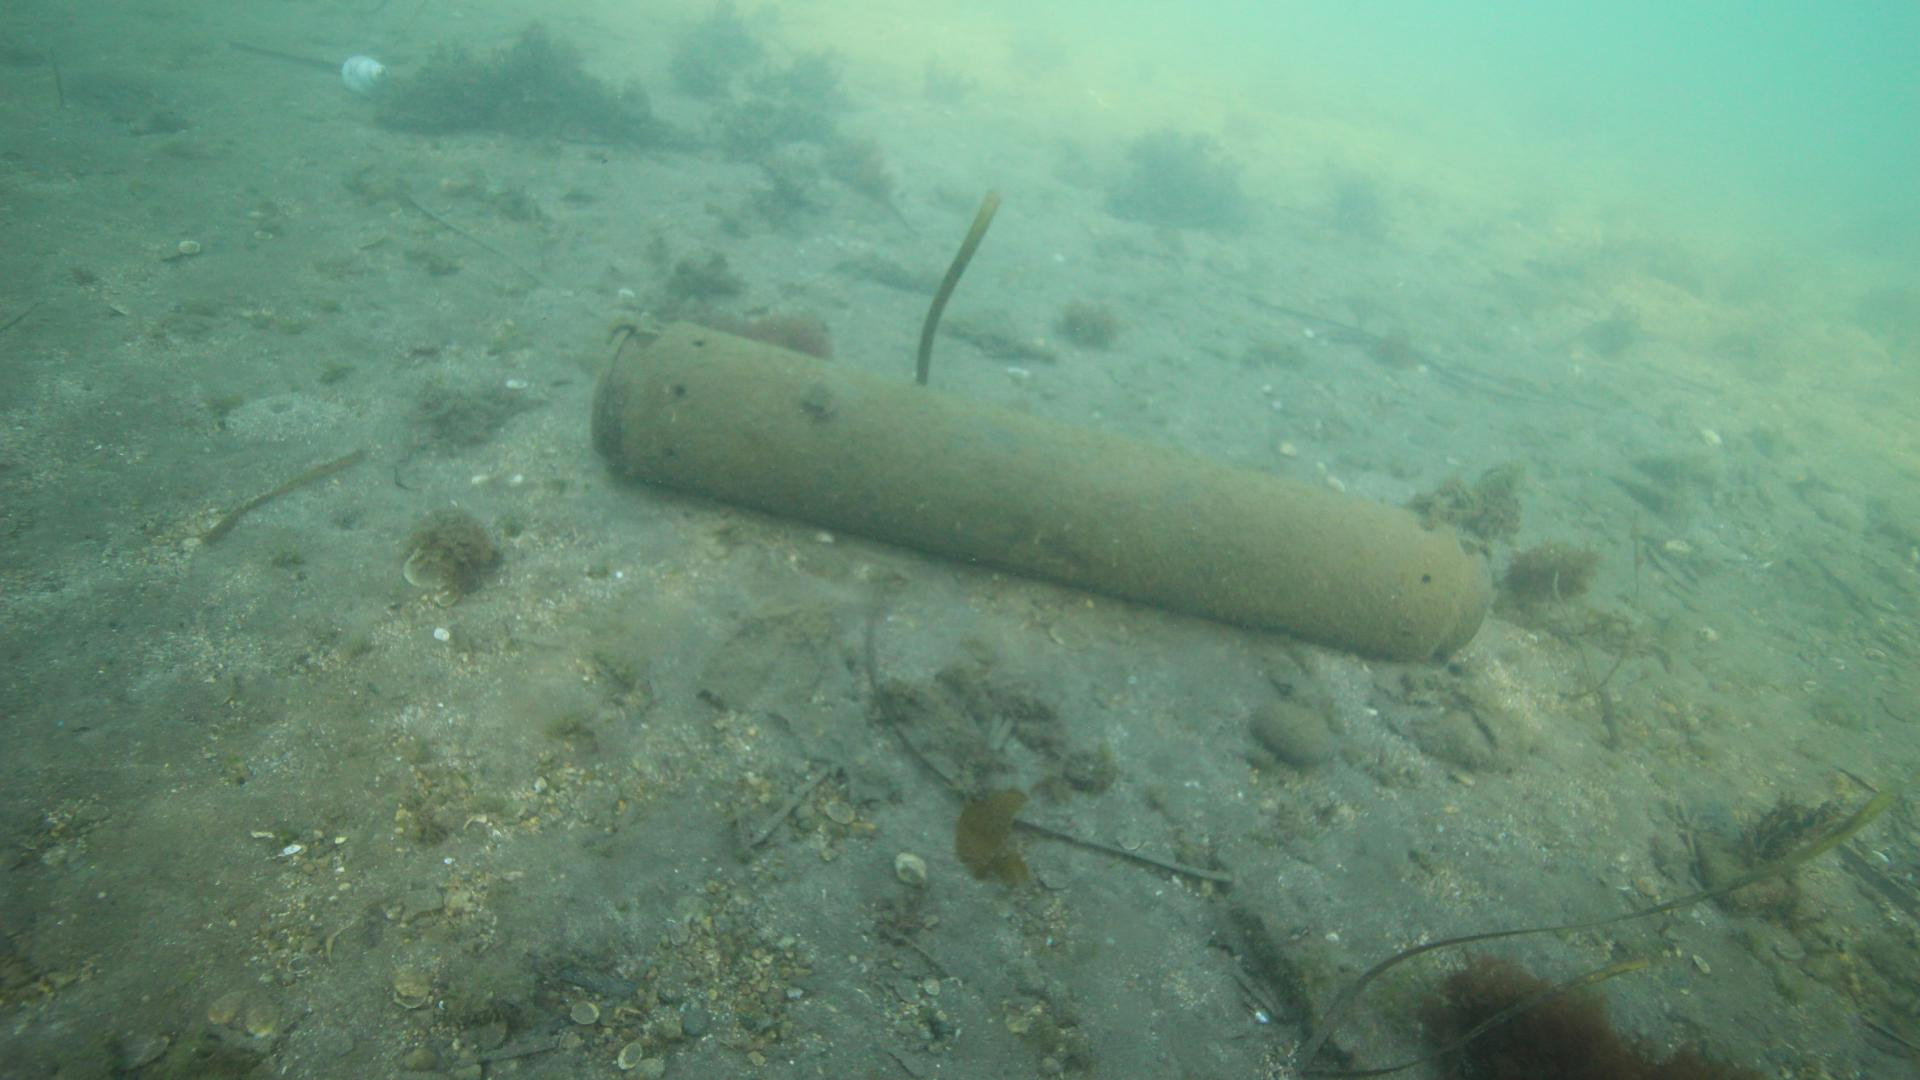eel fish trap: (588, 316, 1495, 669)
